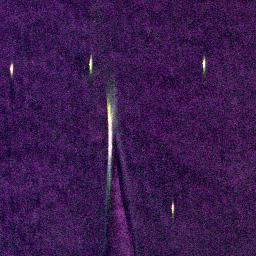Ship: (102, 99, 120, 155), (84, 54, 95, 72), (199, 56, 210, 72), (169, 196, 175, 221), (8, 62, 16, 76)
